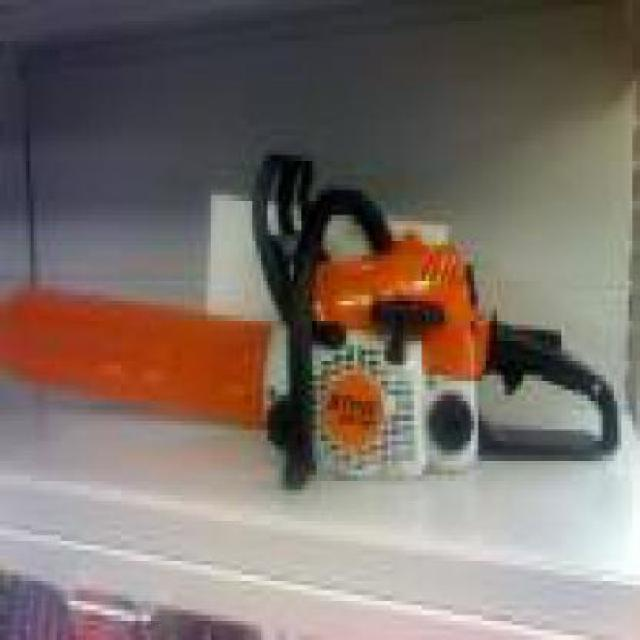Chainsaw: (1, 144, 640, 523)
